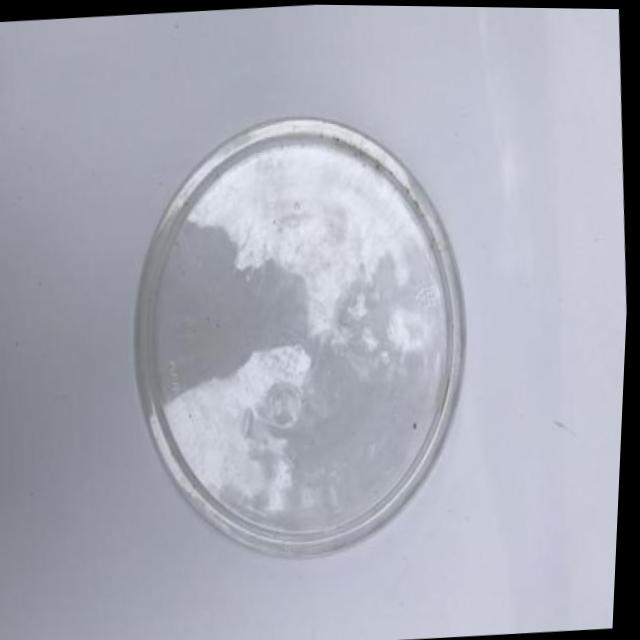plastic: (95, 78, 515, 610)
